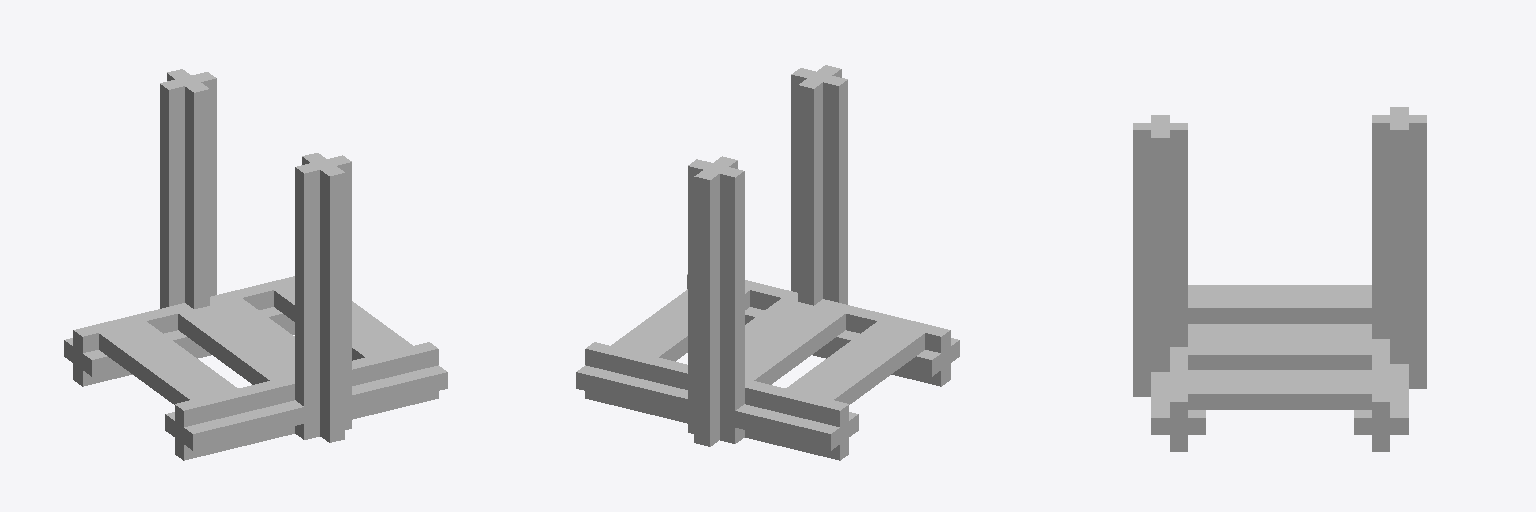
File: pole_scaffolding_base_floor.obj
3 renders of one model, left to right at view 1: azimuth 30°, elevation 25°; view 2: azimuth 150°, elevation 25°; view 3: azimuth 270°, elevation 25°, orthographic.
Visible parts, largest first — view 1: node_0_0_0; view 2: node_0_0_0; view 3: node_0_0_0.
Boxes of the visible parts, box(x1,y1,x2,y2) form: node_0_0_0: box(64, 69, 447, 460); node_0_0_0: box(576, 65, 959, 460); node_0_0_0: box(1133, 107, 1426, 451).
Size of the model in its own units: 1 by 1 by 1.